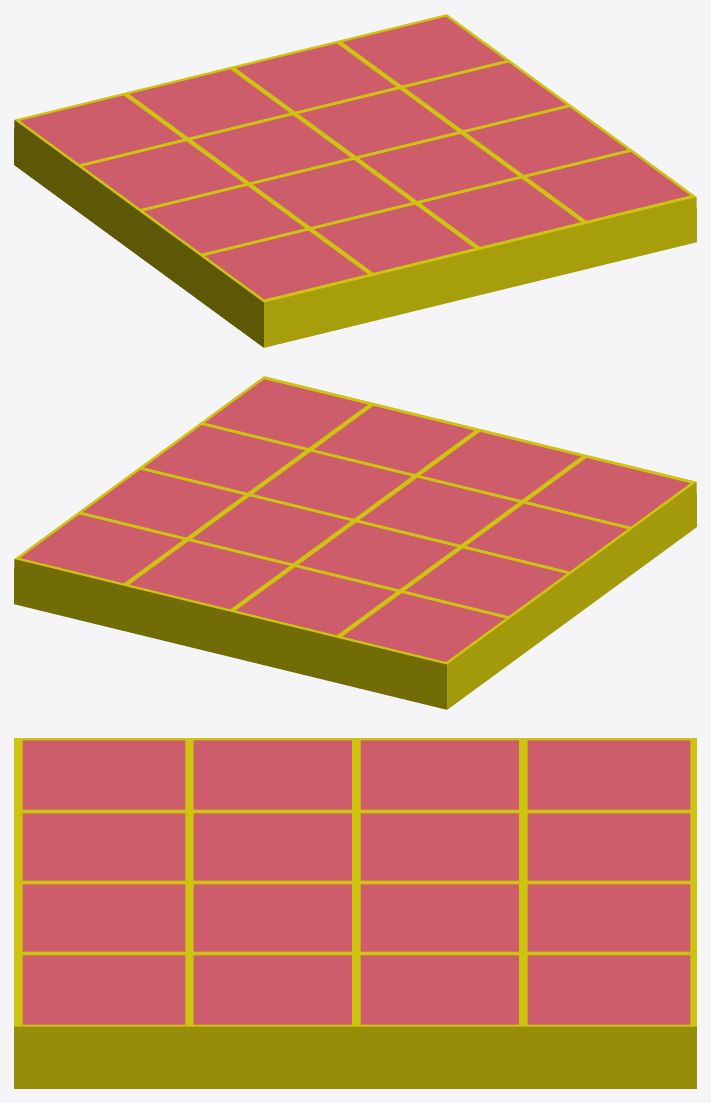
File: ground-building.fbx
The picture shows the model from 3 angles, top to bottom: view 1: azimuth 30°, elevation 25°; view 2: azimuth 150°, elevation 25°; view 3: azimuth 270°, elevation 25°; orthographic projection. The views are drawn at different scales.
Visible parts, largest first — view 1: ground-building; view 2: ground-building; view 3: ground-building.
Part boxes in pixels (box(x1,y1,x2,y2)): ground-building: box(14, 14, 696, 347); ground-building: box(14, 376, 696, 709); ground-building: box(14, 738, 696, 1088).
Bounding box in the file's own units: 4 × 0.4 × 4.
